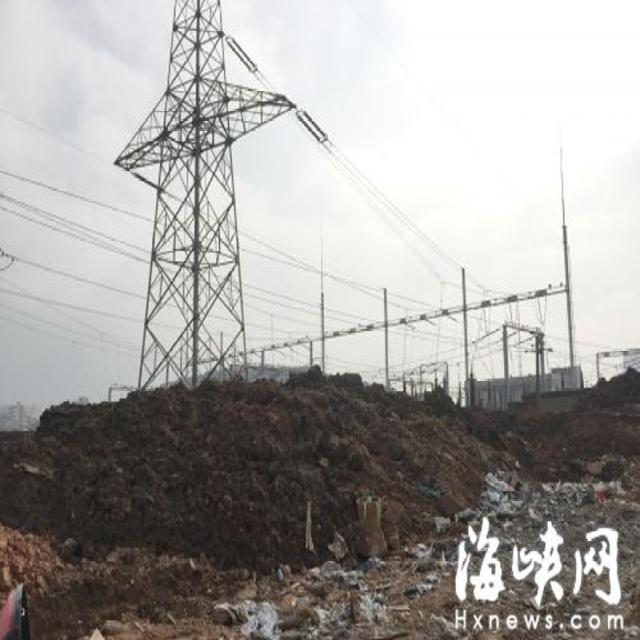non-critical vegetation: (117, 10, 296, 392)
